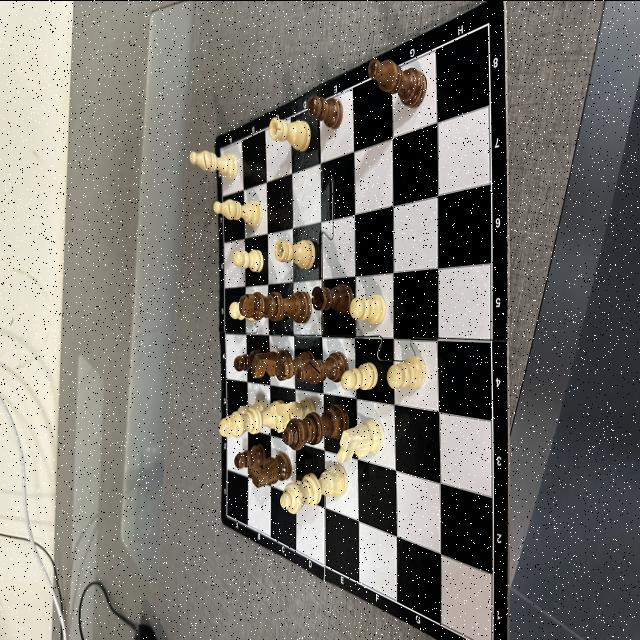Black-Bishop: (368, 57, 426, 106), (296, 351, 348, 384)
Black-King: (239, 290, 311, 322)
Black-Knight: (248, 451, 292, 487), (252, 349, 292, 377)
Black-Pawn: (307, 95, 343, 129), (234, 442, 264, 468), (234, 348, 262, 372)
Black-Queen: (282, 402, 350, 448)
Black-Rook: (312, 284, 354, 314), (276, 350, 314, 380)
White-Bishop: (213, 198, 263, 226), (190, 150, 238, 178)
White-King: (219, 398, 286, 436)
White-Knight: (336, 418, 384, 462), (271, 398, 315, 432)
White-Pawn: (386, 356, 426, 390), (341, 360, 378, 390), (350, 292, 386, 322), (232, 248, 264, 272), (229, 300, 261, 319), (236, 399, 268, 411)
White-Queen: (280, 462, 348, 514)
White-Rook: (269, 116, 311, 150), (275, 238, 315, 269)
